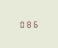eight: (26, 20, 32, 27)
six: (33, 19, 39, 27)
zero: (18, 20, 24, 28)
